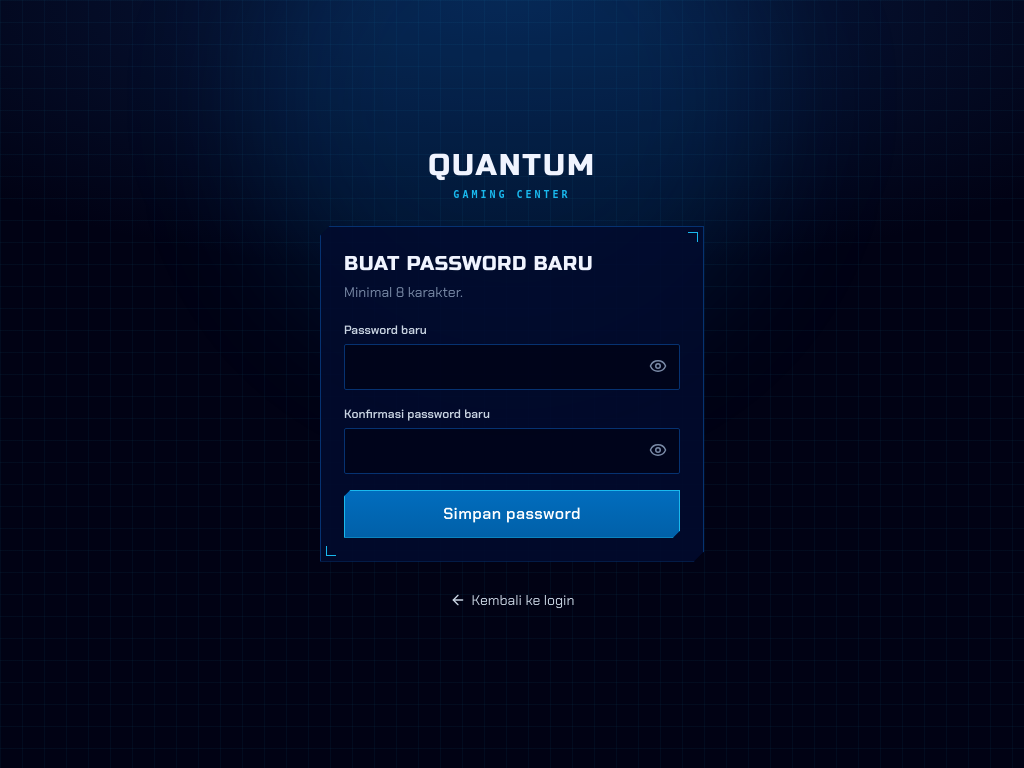
ResetPasswordView › success links back to login
Type "passwordbaru1" into the password field with id "reset-new" at (512, 366), box x1=344 y1=344 x2=680 y2=390
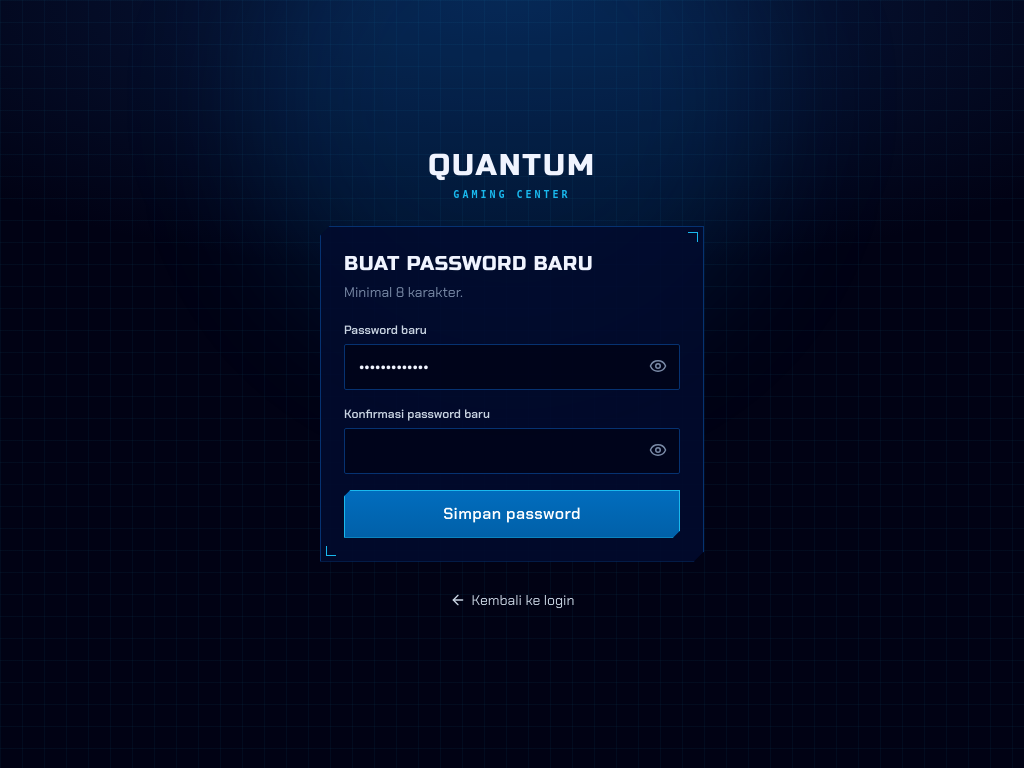
Type "passwordbaru1" into the password field with id "reset-confirm" at (512, 450), box x1=344 y1=428 x2=680 y2=474
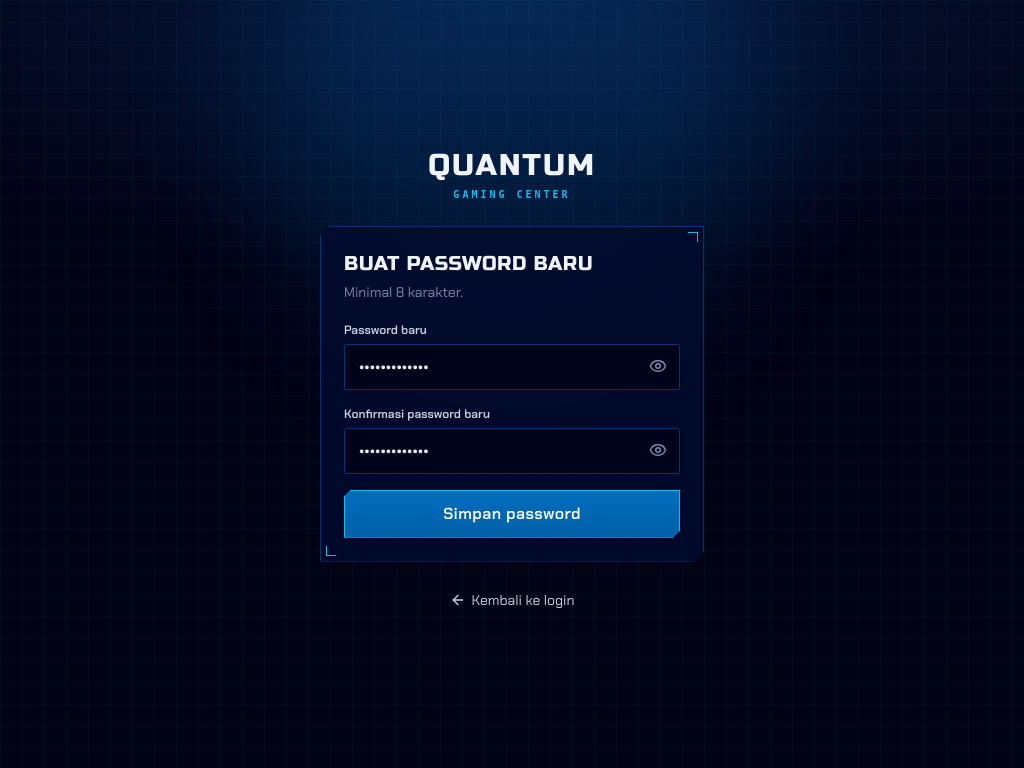
Submit the form, box x1=344 y1=322 x2=680 y2=538
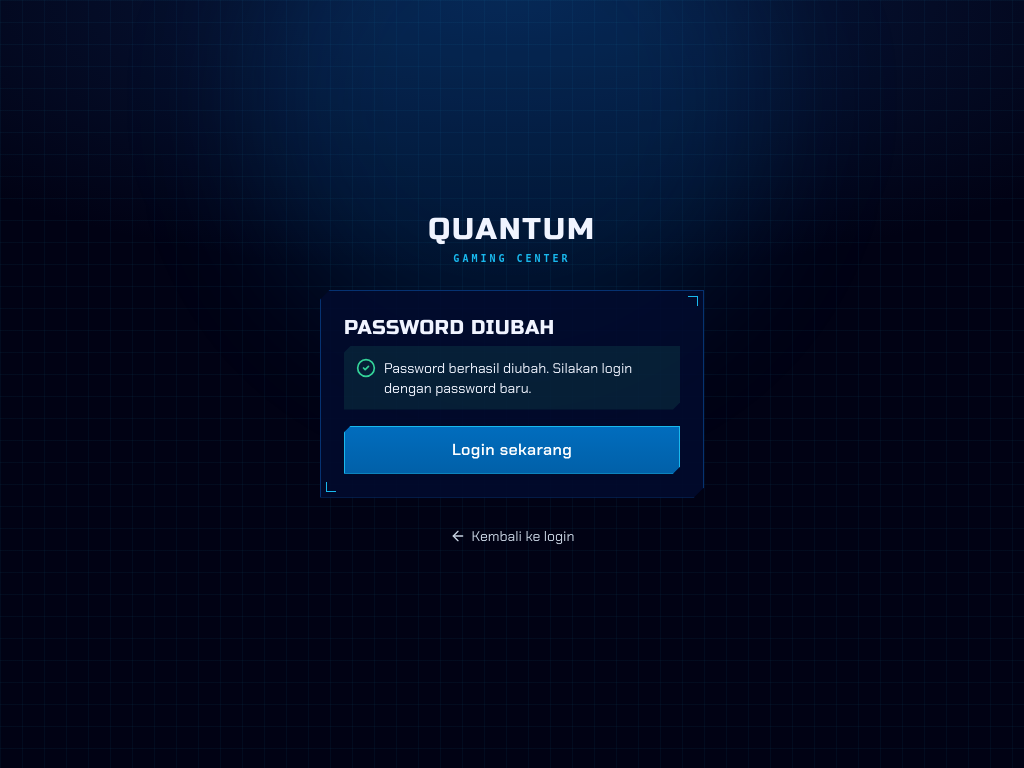
Now the link to "/login" is shown, box x1=344 y1=426 x2=680 y2=474
